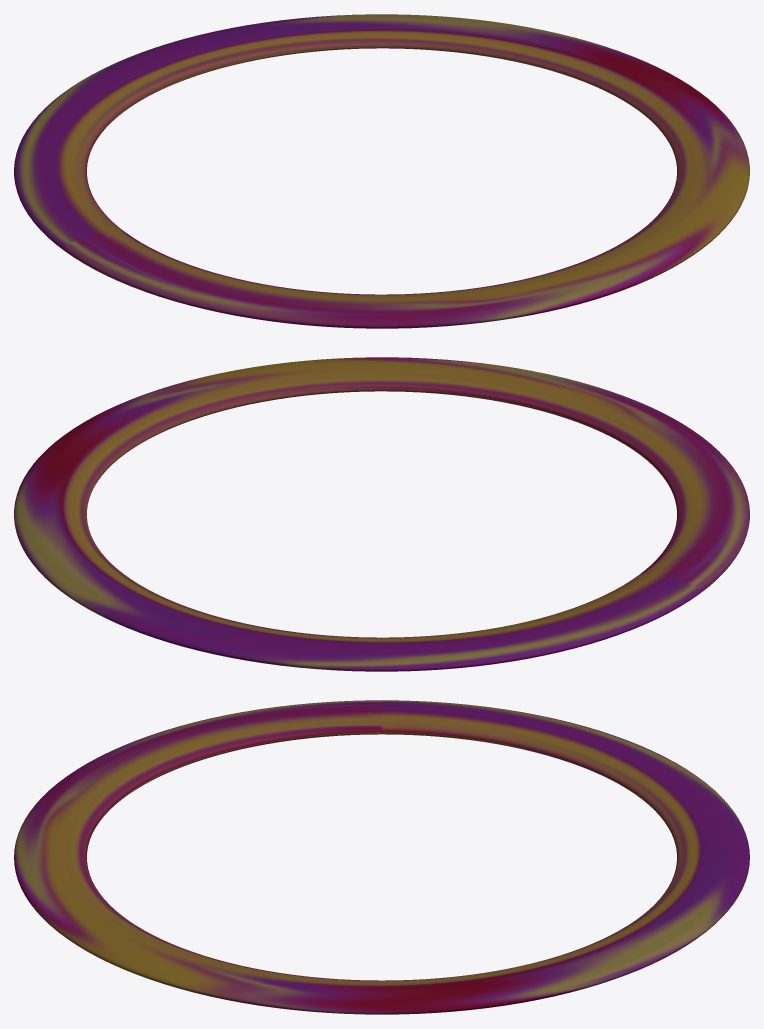
File: rings.glb
The picture shows the model from 3 angles, top to bottom: view 1: azimuth 30°, elevation 25°; view 2: azimuth 150°, elevation 25°; view 3: azimuth 270°, elevation 25°; orthographic projection.
Parts seen in each view (by area): view 1: Torus; view 2: Torus; view 3: Torus.
Part boxes in pixels (x1=…): Torus: x1=14, y1=14, x2=749, y2=328; Torus: x1=14, y1=357, x2=749, y2=671; Torus: x1=14, y1=700, x2=749, y2=1014.
Size of the model in its own units: 7.87 by 0.1735 by 7.87.
1 material, 1 textured.
